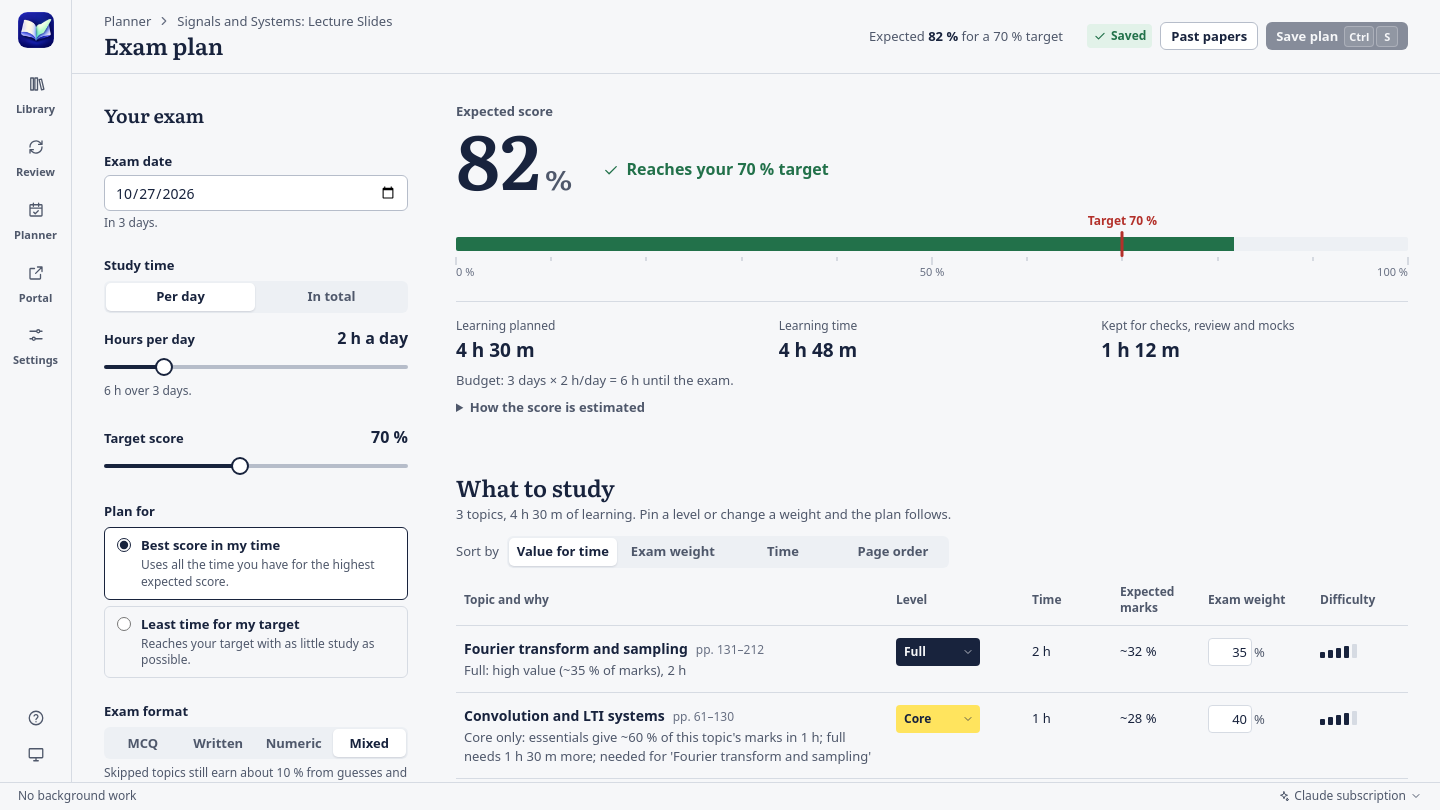
PlannerScreen › marks edits to a saved plan as unsaved and can discard them
expect the text "Saved" is shown: met, box [1087,24,1152,48]
Set the slider labelled "Target score" to "85": (336, 466) [104,454,408,478]
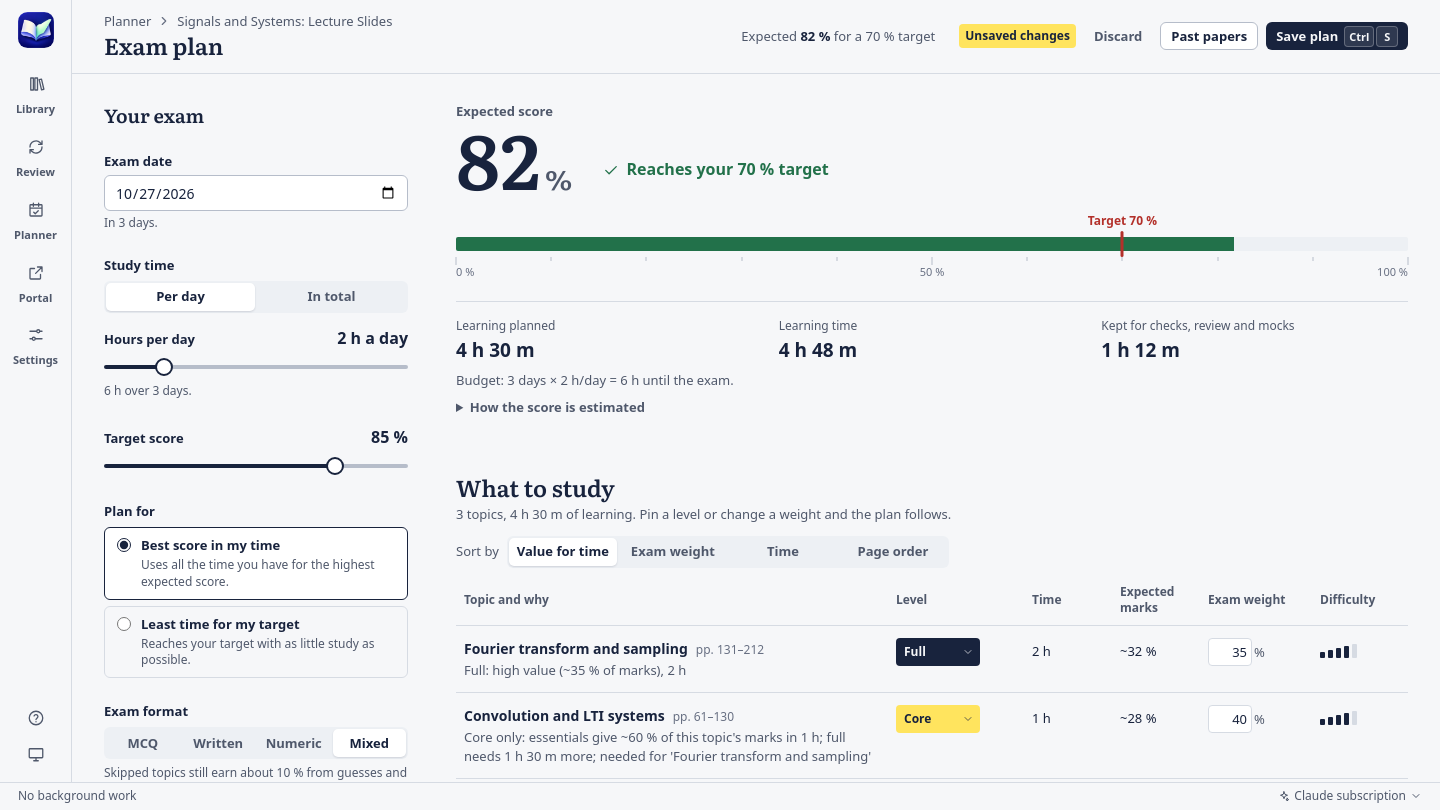
expect the text "Unsaved changes" is shown: met, box [959,24,1076,48]
Click the button "Discard": (1118, 36) [1084,22,1152,50]
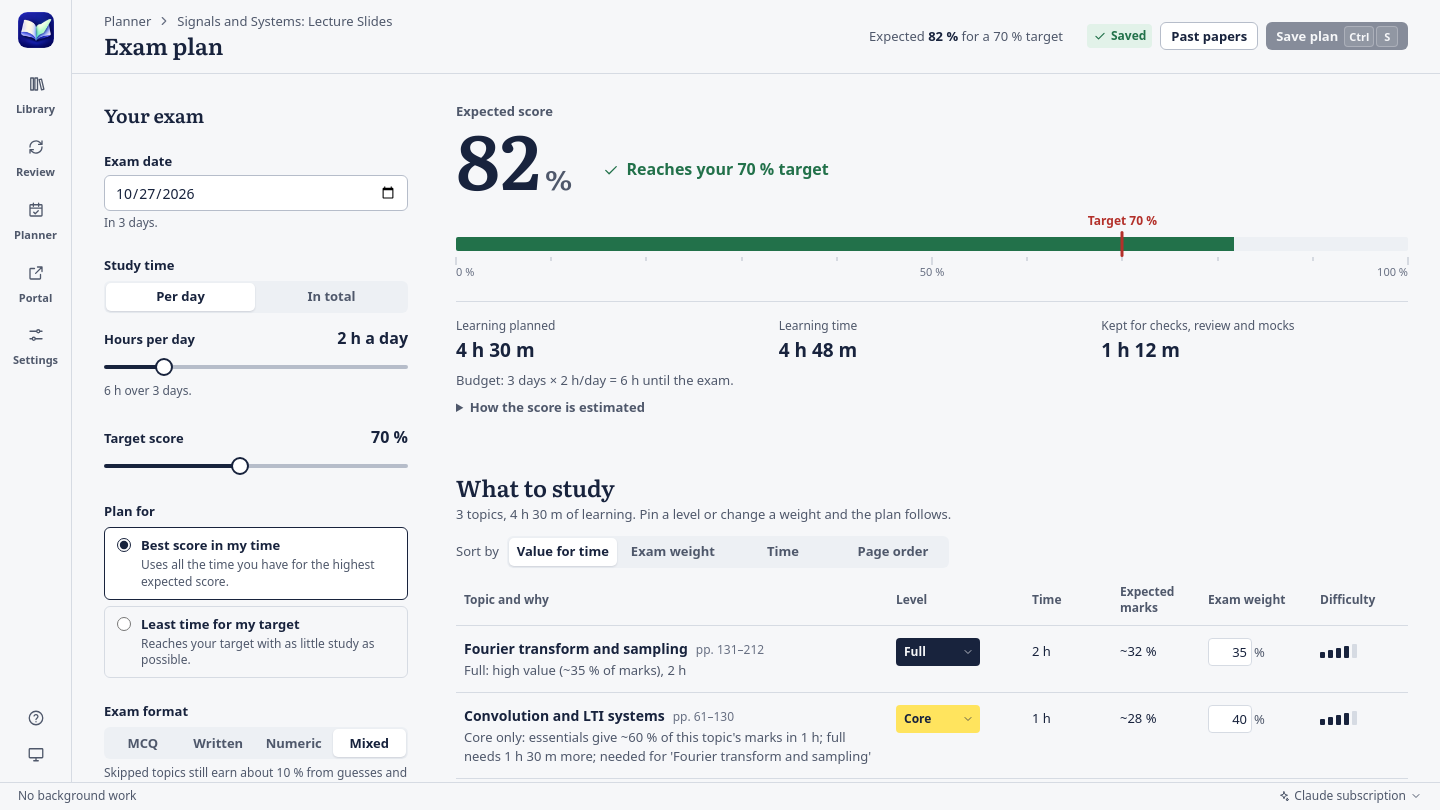
expect the text "Saved" is shown: met, box [1087,24,1152,48]
expect the slider labelled "Target score" holds "70": met, box [104,454,408,478]
